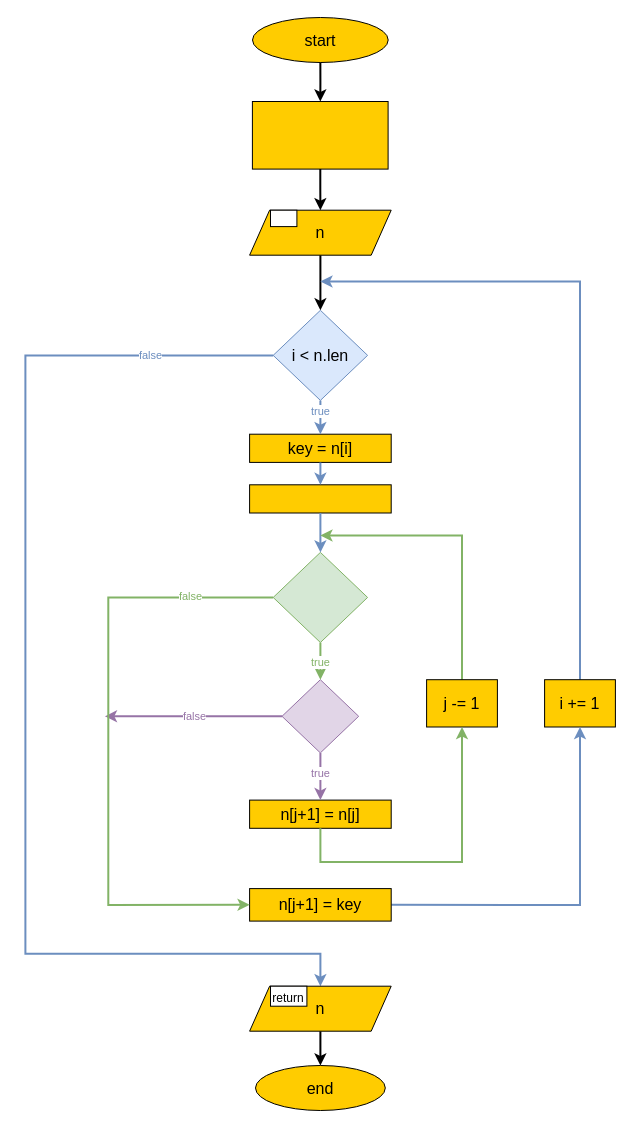
Some shapes in this 633 by 1128 pixel diagram are drawn without their labels. The shapes that lost their labels are listed below. From the top down, each one's centre as x and y in pixels, then its label:
At point 319,134: "i = 1; j, key = 0; n = [];".
At point 283,218: "read".
At point 320,498: "j = i-1".
At point 320,596: "j >= 0".
At point 320,716: "n[j] > key".
